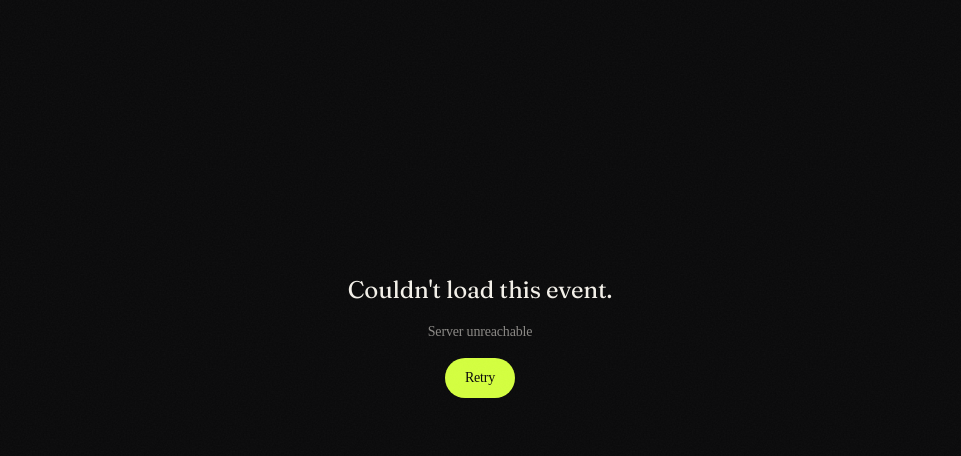
Test: host event detail › a failed load is an error with Retry, not "Event not found"
The image size is (961, 456).
Click the button "Retry".
click(480, 378)  # box x1=445 y1=358 x2=515 y2=398
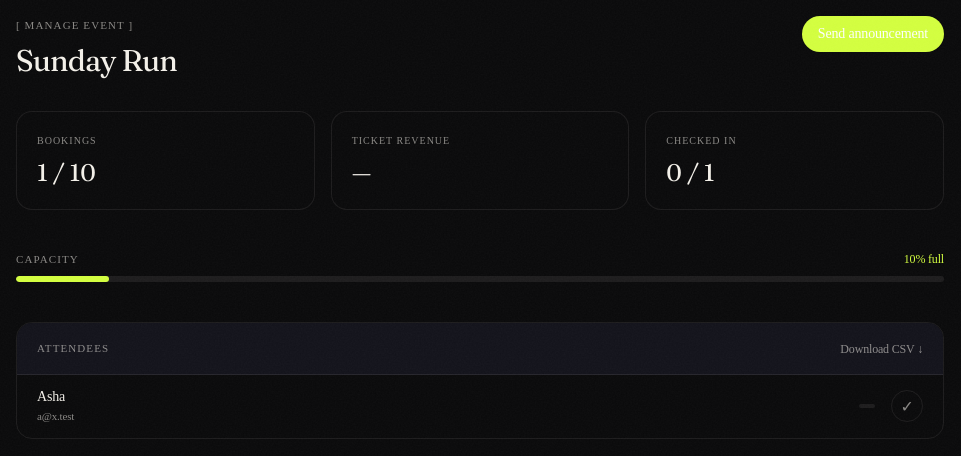
Expected: the heading "Sunday Run" is shown, x1=16 y1=43 x2=177 y2=79
